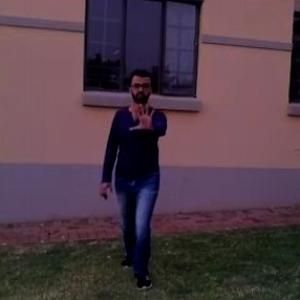follow_hand: (127, 98, 158, 136)
